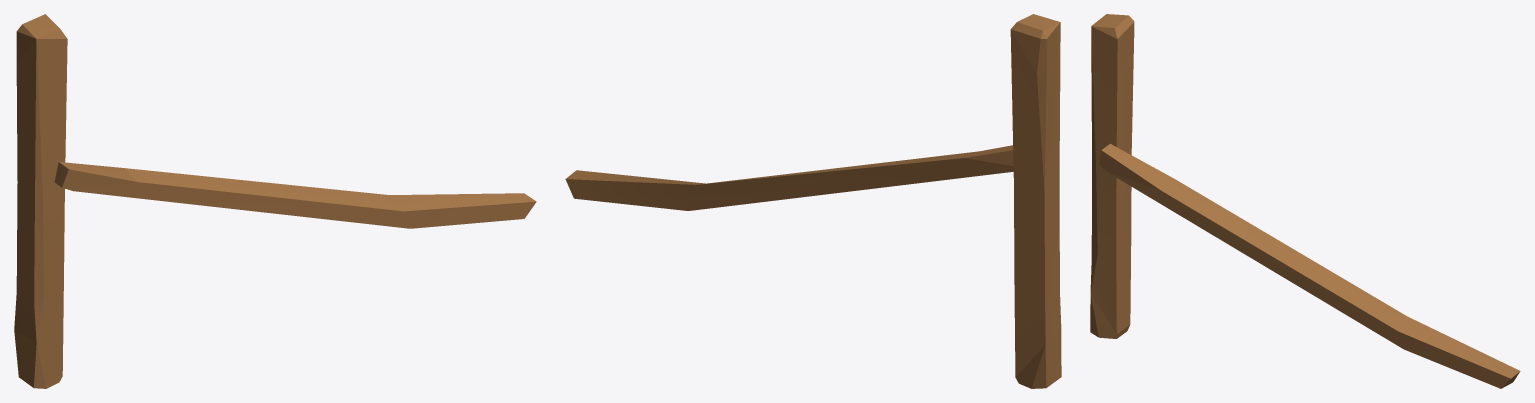
File: Fence_WoodA_E.fbx
The picture shows the model from 3 angles, left to right: view 1: azimuth 30°, elevation 25°; view 2: azimuth 150°, elevation 25°; view 3: azimuth 330°, elevation 25°; orthographic projection. The views are drawn at different scales.
Parts seen in each view (by area): view 1: Fence_WoodA_E; view 2: Fence_WoodA_E; view 3: Fence_WoodA_E.
Part boxes in pixels (left/top/right/bottom): Fence_WoodA_E: left=14, top=14, right=536, bottom=388; Fence_WoodA_E: left=565, top=14, right=1061, bottom=388; Fence_WoodA_E: left=1090, top=14, right=1520, bottom=388.
Size of the model in its own units: 221 by 154 by 23.28.
